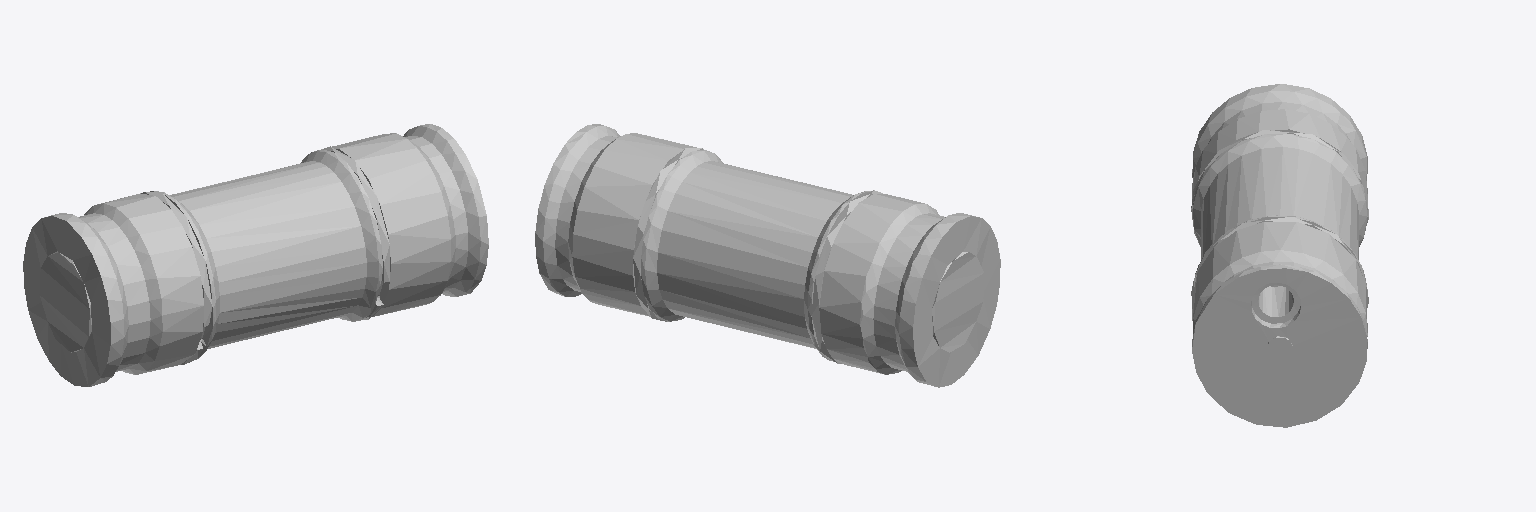
3 renders of one model, left to right at view 1: azimuth 30°, elevation 25°; view 2: azimuth 150°, elevation 25°; view 3: azimuth 270°, elevation 25°, orthographic.
Visible parts, largest first — view 1: RS1-[number redacted].001; view 2: RS1-[number redacted].001; view 3: RS1-[number redacted].001.
Part boxes in pixels (bbox=[...]): RS1-[number redacted].001: bbox=[23, 124, 488, 386]; RS1-[number redacted].001: bbox=[535, 124, 1000, 387]; RS1-[number redacted].001: bbox=[1191, 84, 1368, 427].
Size of the model in its own units: 0.1003 by 0.0403 by 0.0404.